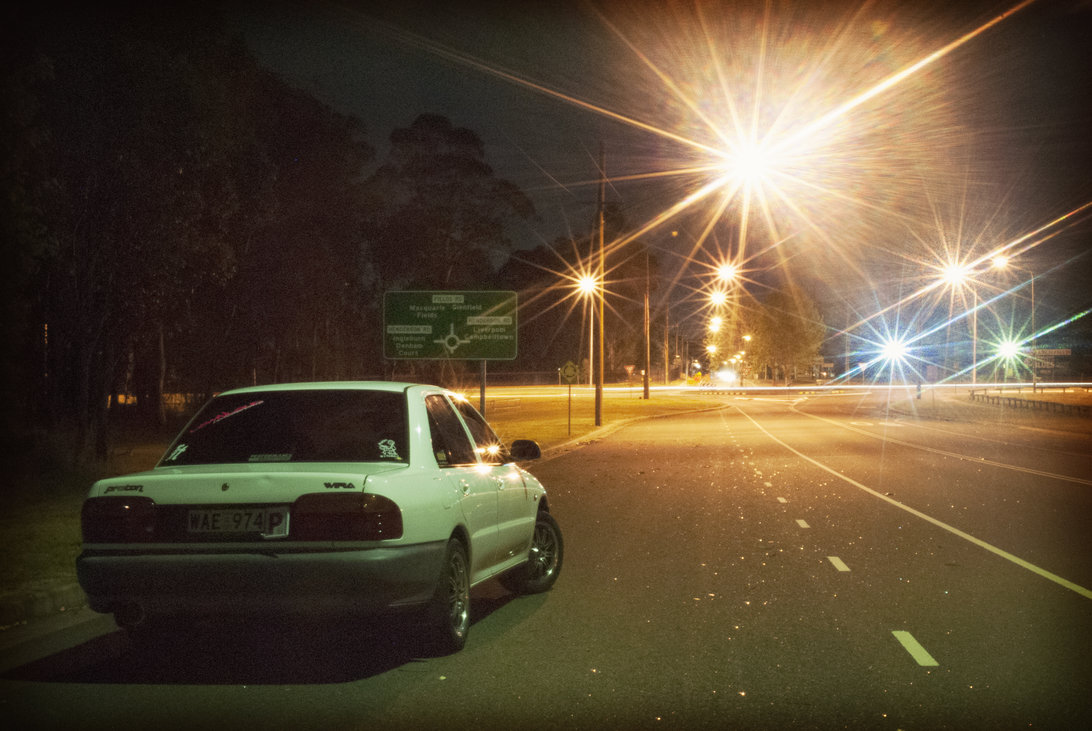car: (64, 361, 582, 670)
